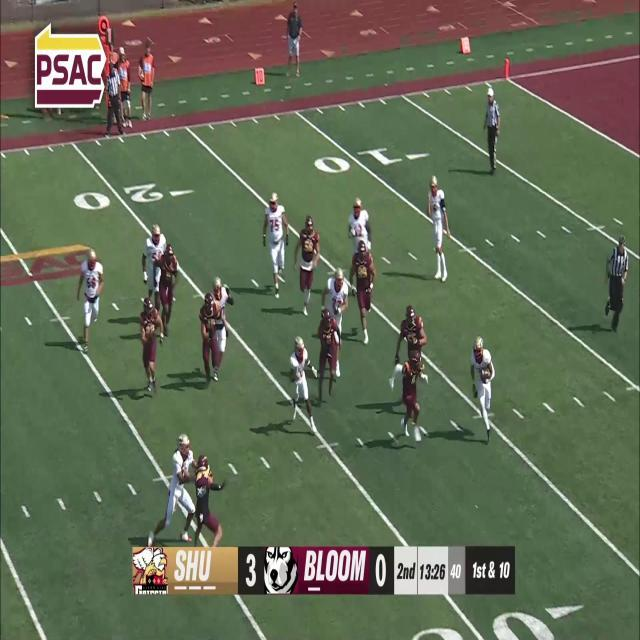football: (480, 368, 492, 380)
